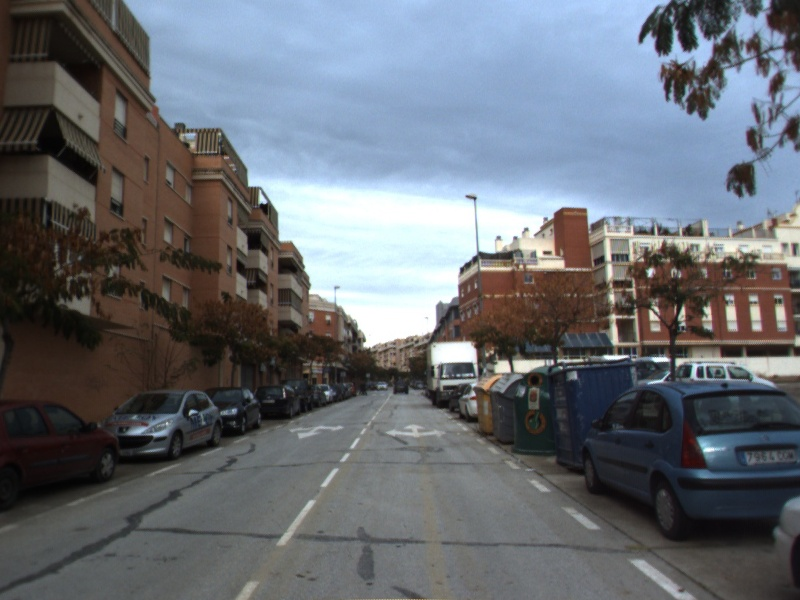STRAIGHT_LEFT_RIGHT: (384, 422, 448, 440)
